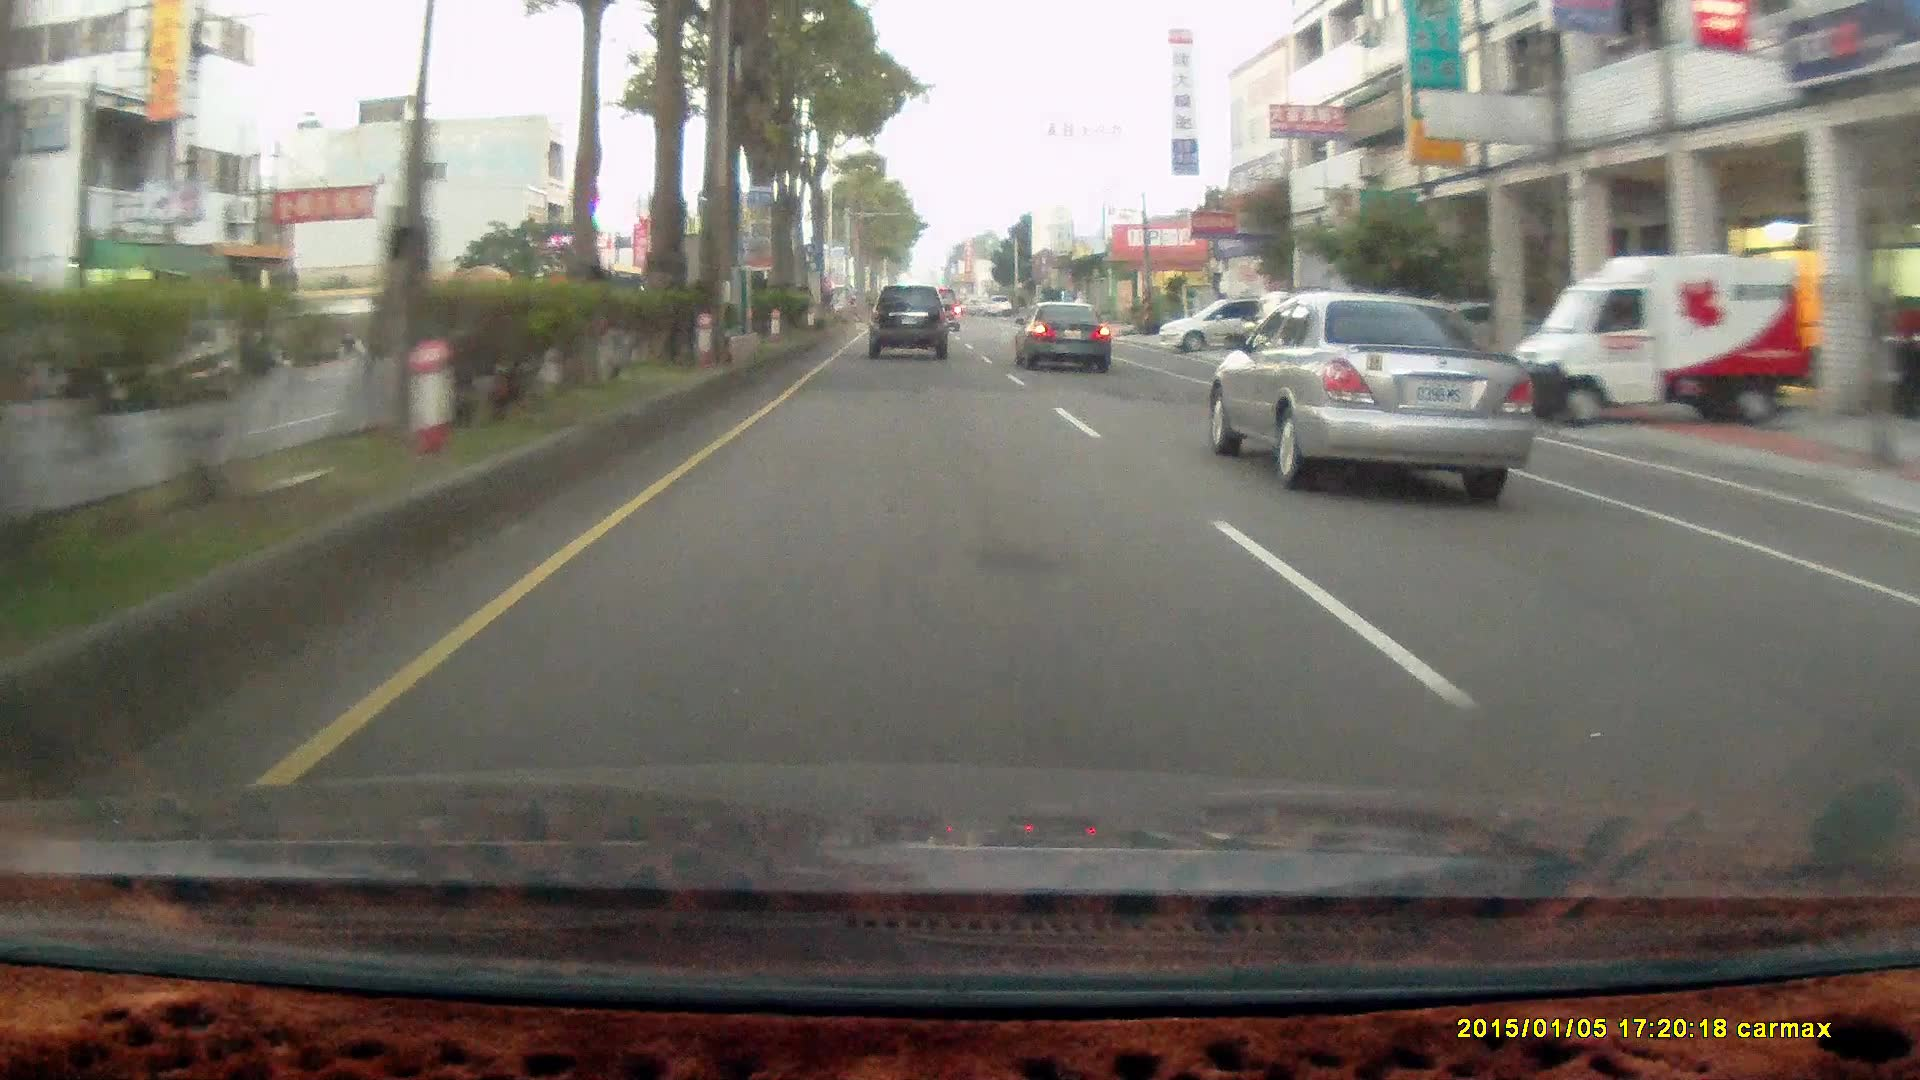vehicle: (1218, 290, 1544, 489), (1511, 253, 1816, 426), (1511, 253, 1805, 426), (98, 323, 237, 411), (1254, 286, 1371, 371), (1154, 301, 1300, 361), (1156, 297, 1302, 356), (1013, 301, 1116, 375), (1013, 301, 1112, 375), (869, 284, 952, 363), (866, 284, 948, 359)
